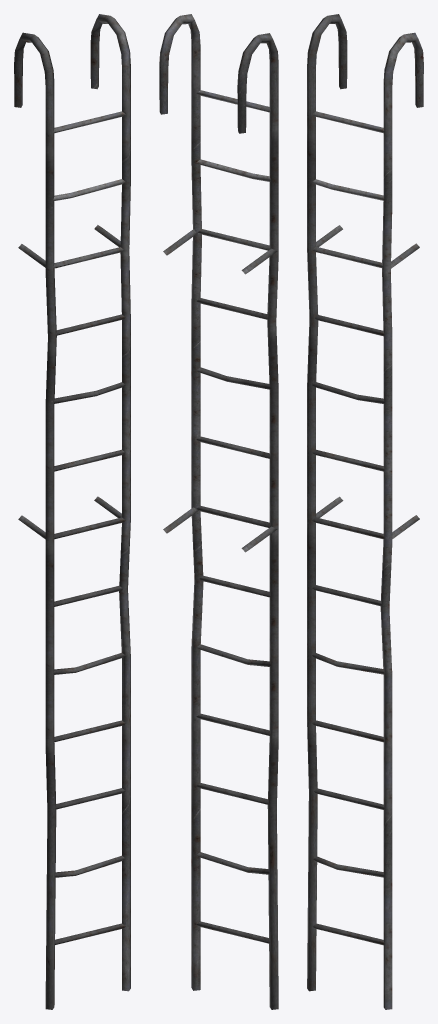
The model's file is ladder.fbx.
3 renders of one model, left to right at view 1: azimuth 30°, elevation 25°; view 2: azimuth 150°, elevation 25°; view 3: azimuth 330°, elevation 25°, orthographic. The views are drawn at different scales.
Visible parts, largest first — view 1: o8500; view 2: o8500; view 3: o8500.
Part boxes in pixels (x1,y1,x2,y2): o8500: (14,14,130,1009); o8500: (159,14,278,1009); o8500: (307,14,423,1009).
Bounding box in the file's own units: 0.66 × 7.11 × 0.4914.
